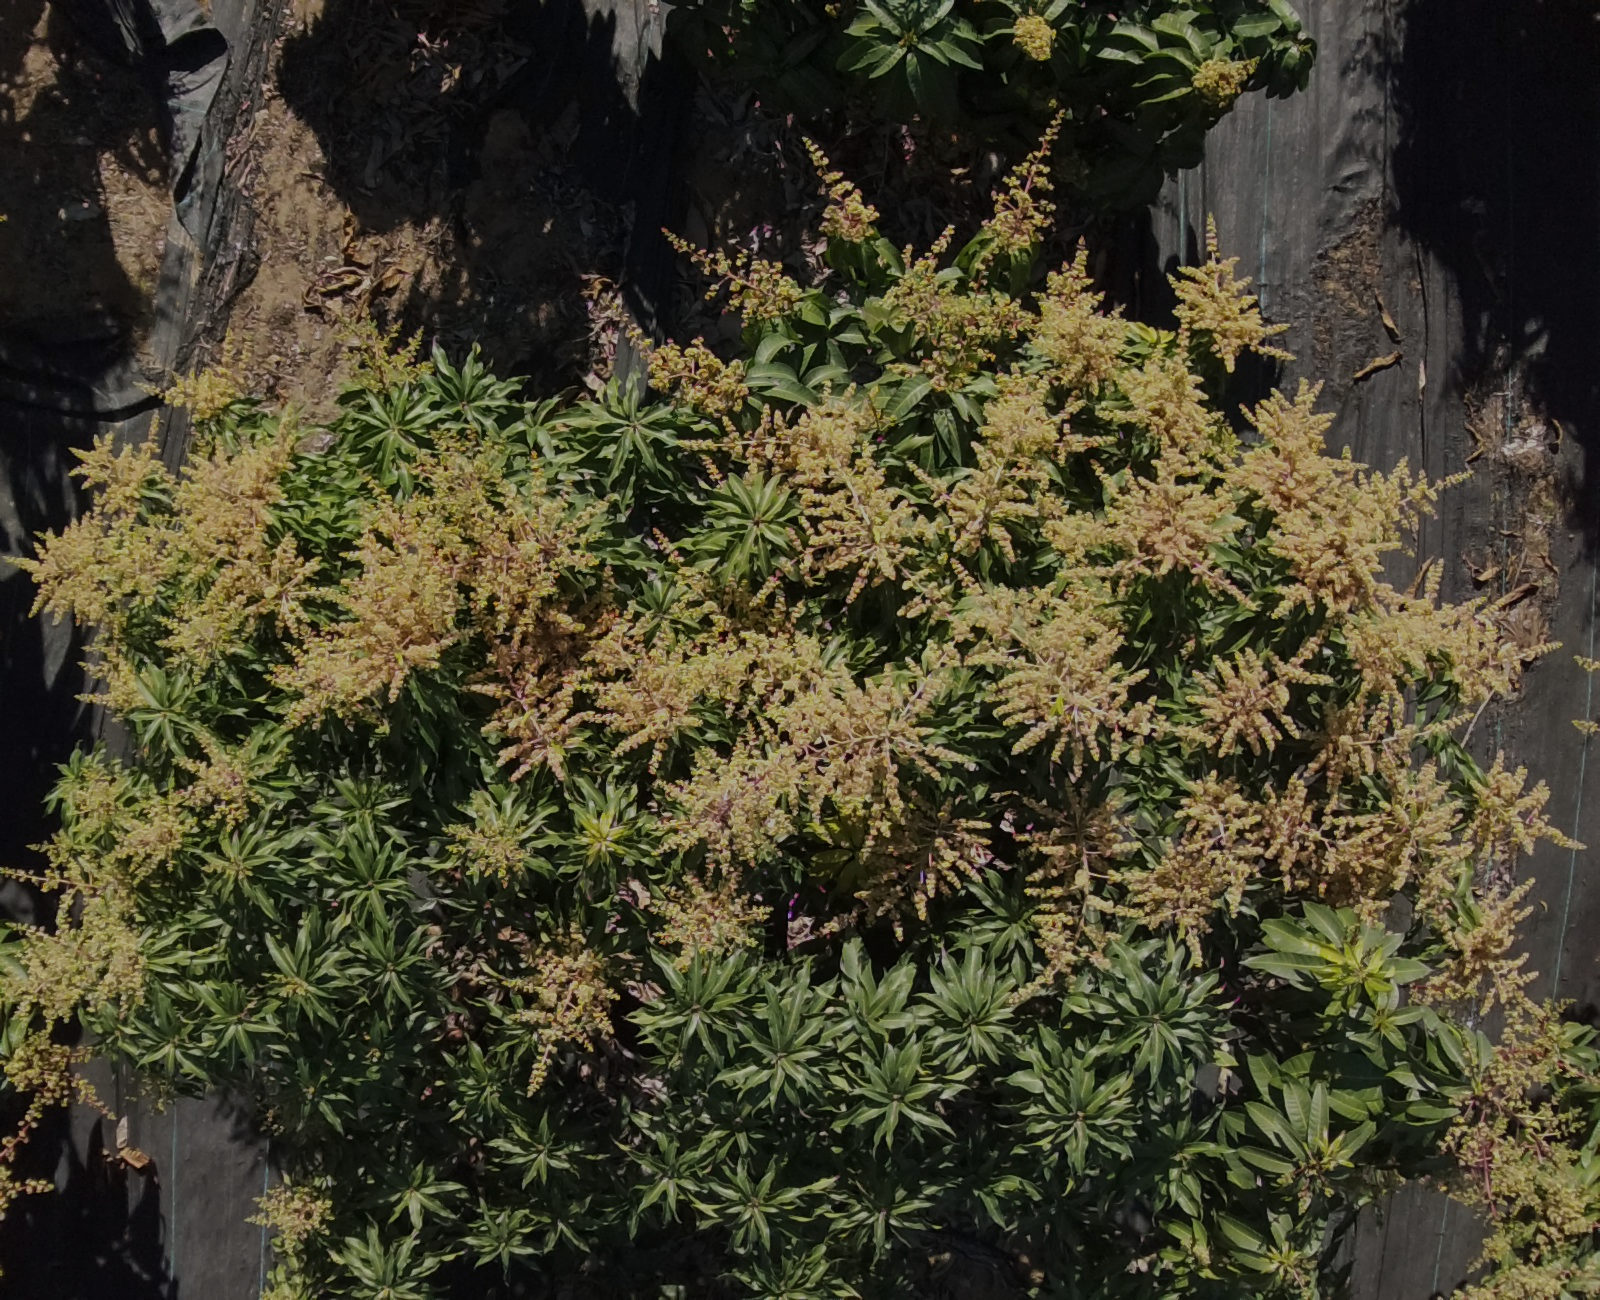flowers: (1132, 600, 1554, 1006), (850, 551, 1183, 972), (275, 440, 647, 777), (21, 417, 367, 715), (596, 577, 931, 860), (1055, 357, 1422, 613), (0, 738, 248, 1025), (937, 265, 1128, 554), (1446, 1000, 1597, 1297), (726, 399, 915, 600), (582, 275, 748, 417), (886, 229, 1028, 389), (1167, 215, 1294, 373), (505, 925, 620, 1049), (632, 872, 771, 968), (663, 229, 803, 325), (980, 110, 1061, 260), (0, 1029, 105, 1112), (446, 791, 535, 883), (803, 138, 877, 241), (245, 1177, 332, 1250), (0, 1096, 50, 1220), (84, 635, 141, 718), (161, 366, 244, 422), (1270, 1214, 1319, 1297), (1190, 57, 1256, 107), (1011, 13, 1056, 61), (1572, 655, 1597, 673), (1572, 718, 1597, 735)
